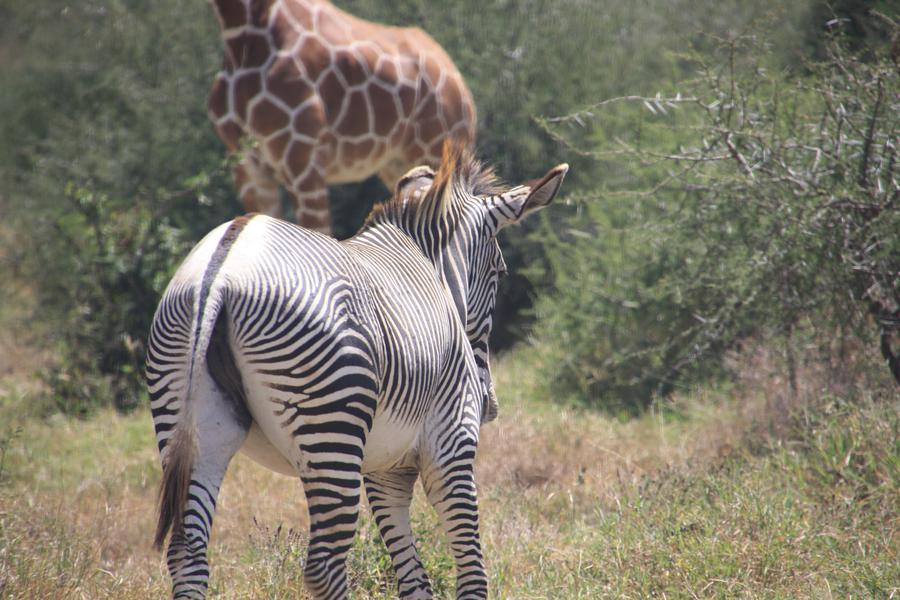zebra_grevys: (211, 203, 485, 426)
